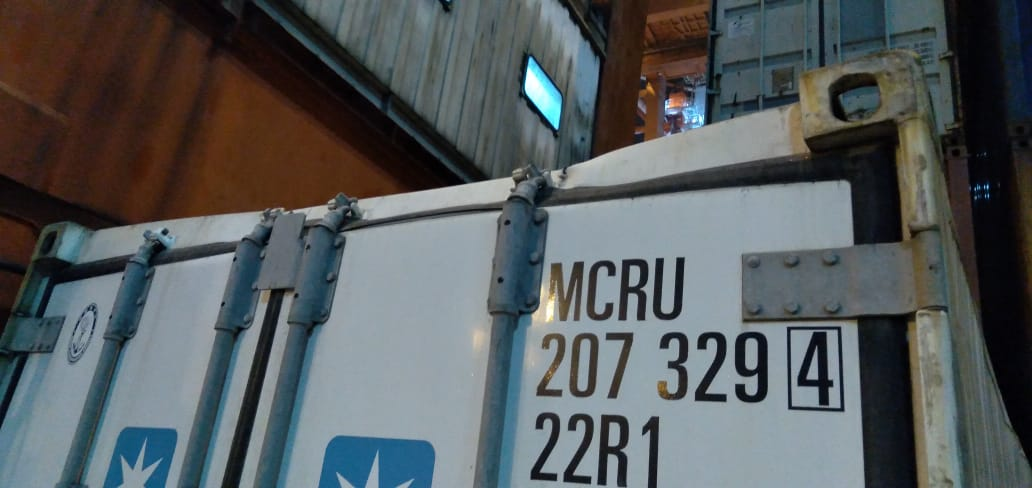moderate: (437, 135, 700, 245)
